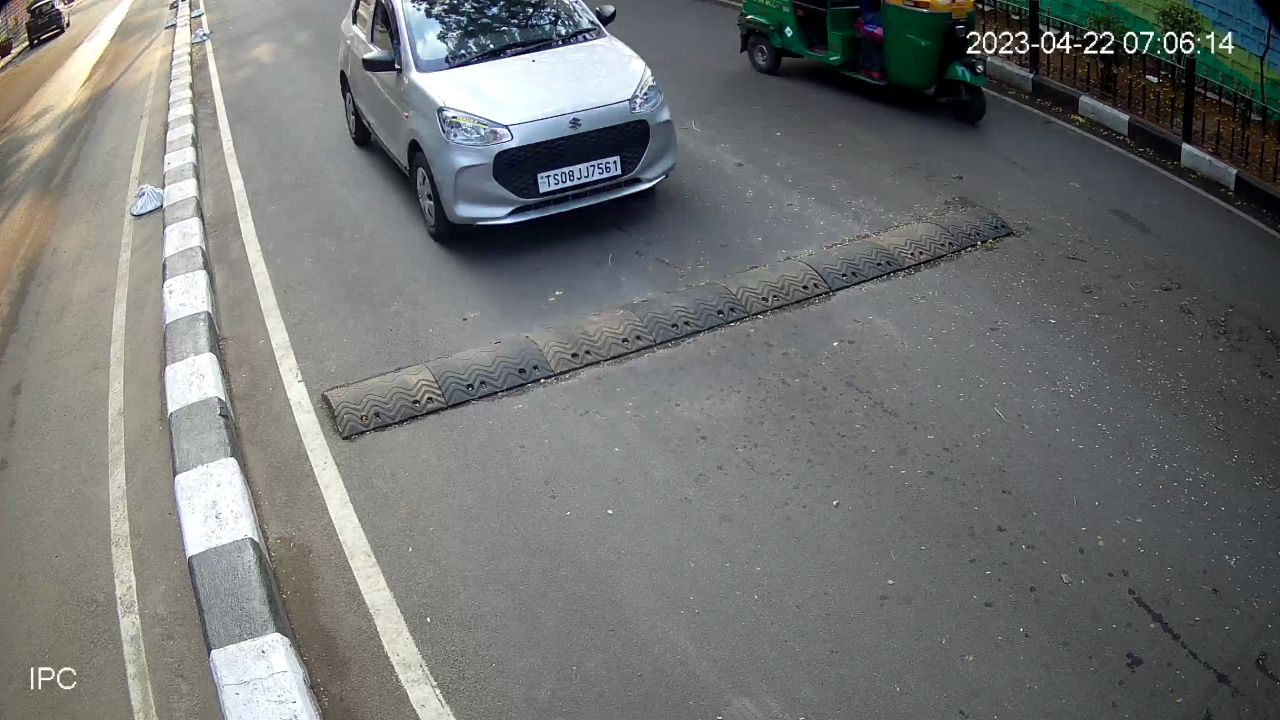license_plate: (532, 151, 624, 201)
